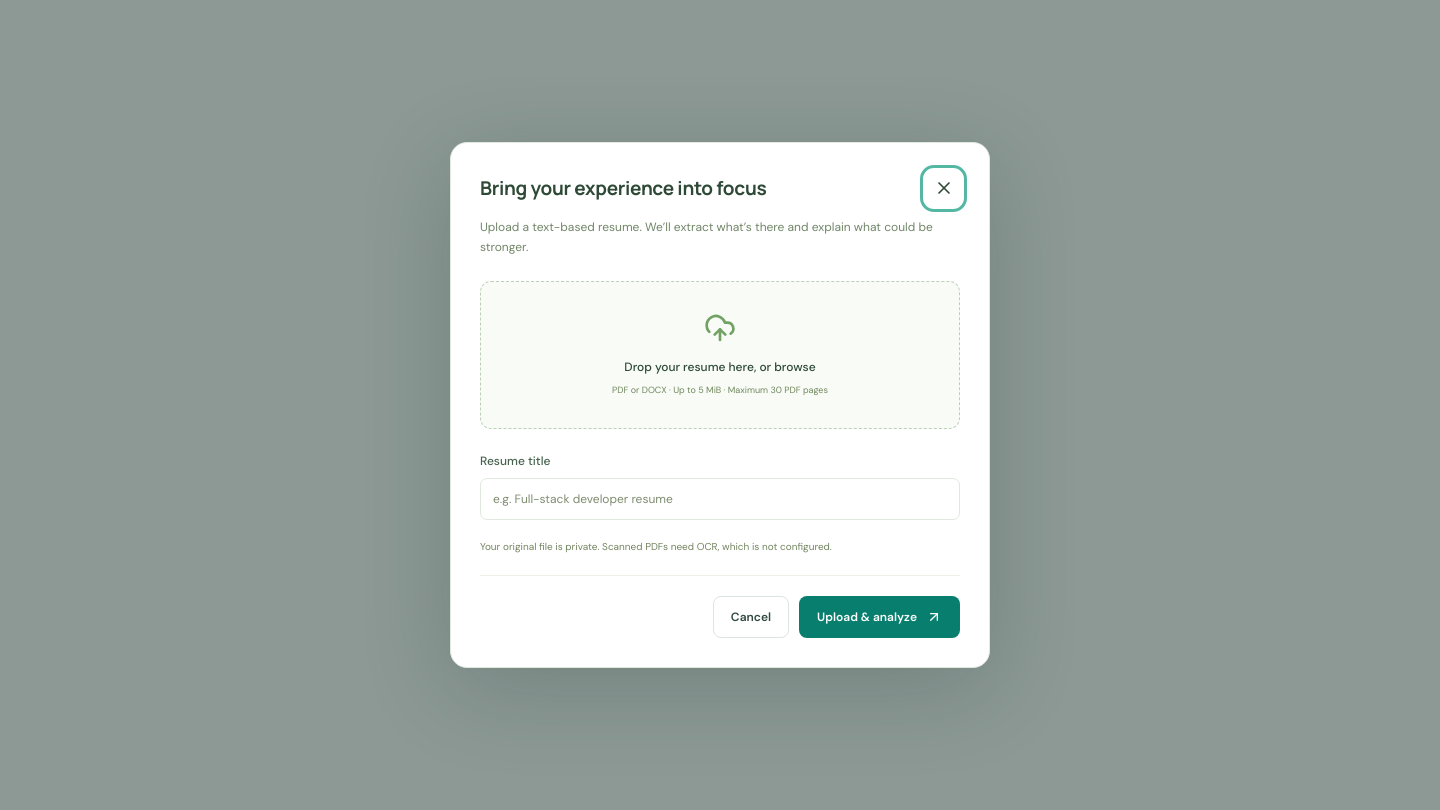
Test case: resume upload validation › requires a file and shows a useful error
Click the button "Upload & analyze".
click(880, 617)  # box [799,596,960,638]
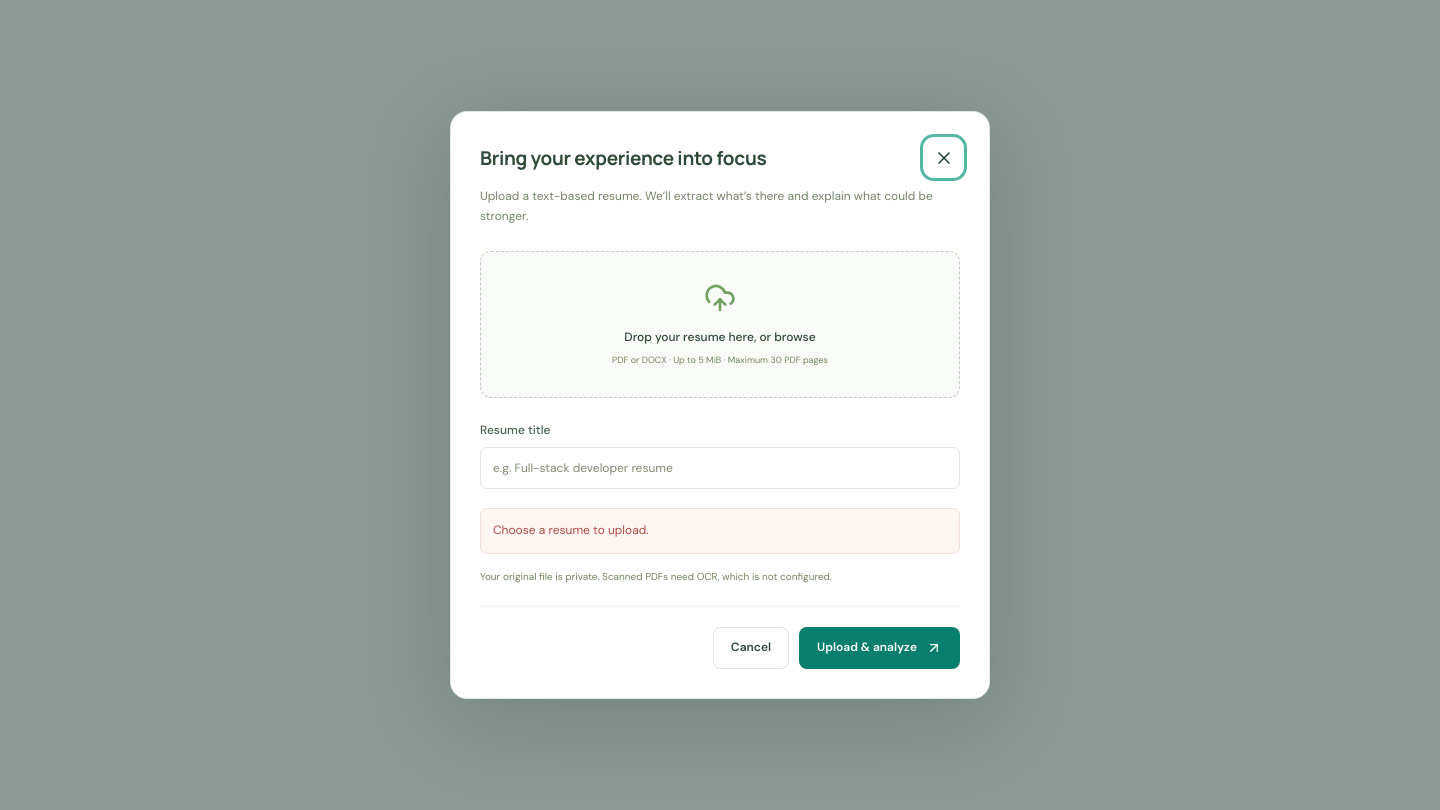
Check: the message shows "Choose a resume", box [493,522,649,538]
